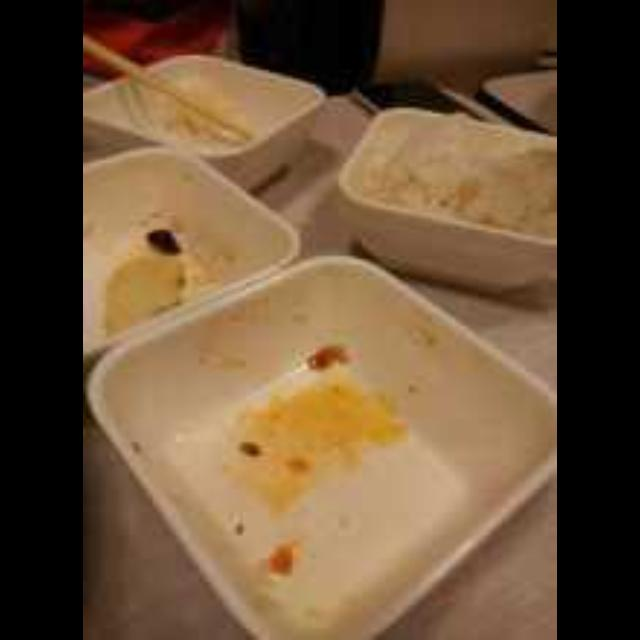plastic_box: (83, 248, 551, 634), (83, 140, 295, 346), (330, 102, 548, 284), (84, 50, 318, 186), (360, 108, 548, 232), (84, 33, 248, 134), (476, 67, 552, 131)
